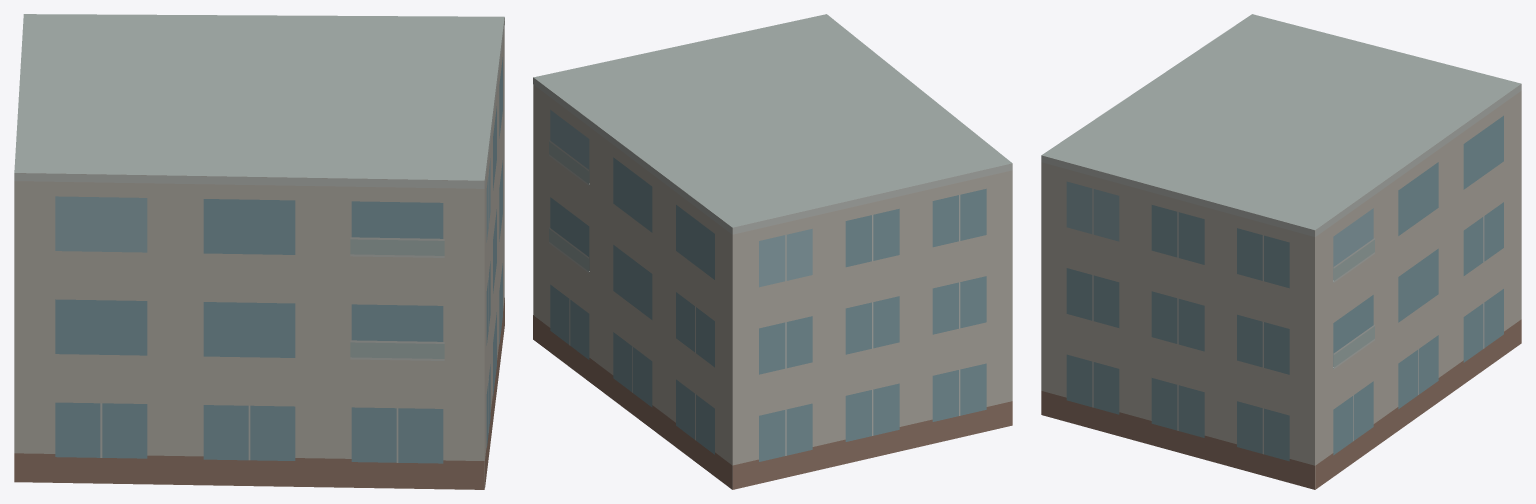
The model's file is survey-upis-32949086.glb.
3 renders of one model, left to right at view 1: azimuth 30°, elevation 25°; view 2: azimuth 150°, elevation 25°; view 3: azimuth 270°, elevation 25°, orthographic. The views are drawn at different scales.
Parts seen in each view (by area): view 1: survey-upis-32949086.tmp; view 2: survey-upis-32949086.tmp; view 3: survey-upis-32949086.tmp.
Part boxes in pixels (<box>): survey-upis-32949086.tmp: <box>14,14,504,489</box>; survey-upis-32949086.tmp: <box>533,14,1012,489</box>; survey-upis-32949086.tmp: <box>1041,14,1521,489</box>.
Size of the model in its own units: 16.36 by 9.15 by 15.35.
